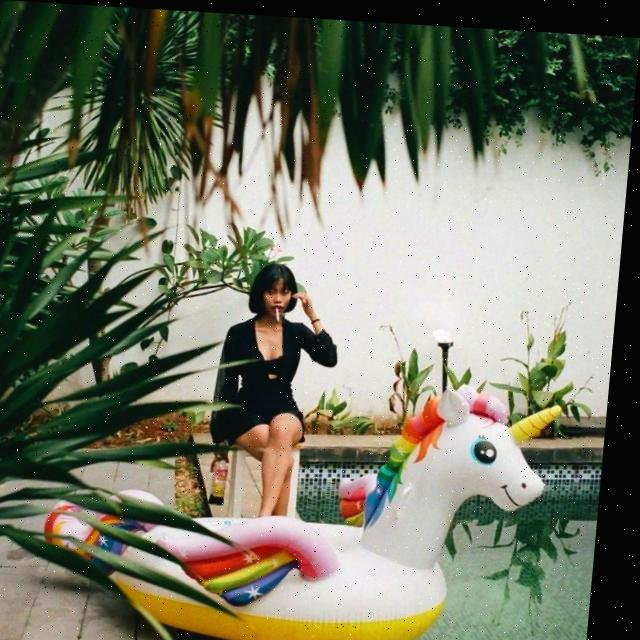cigarette: (280, 304, 286, 318)
